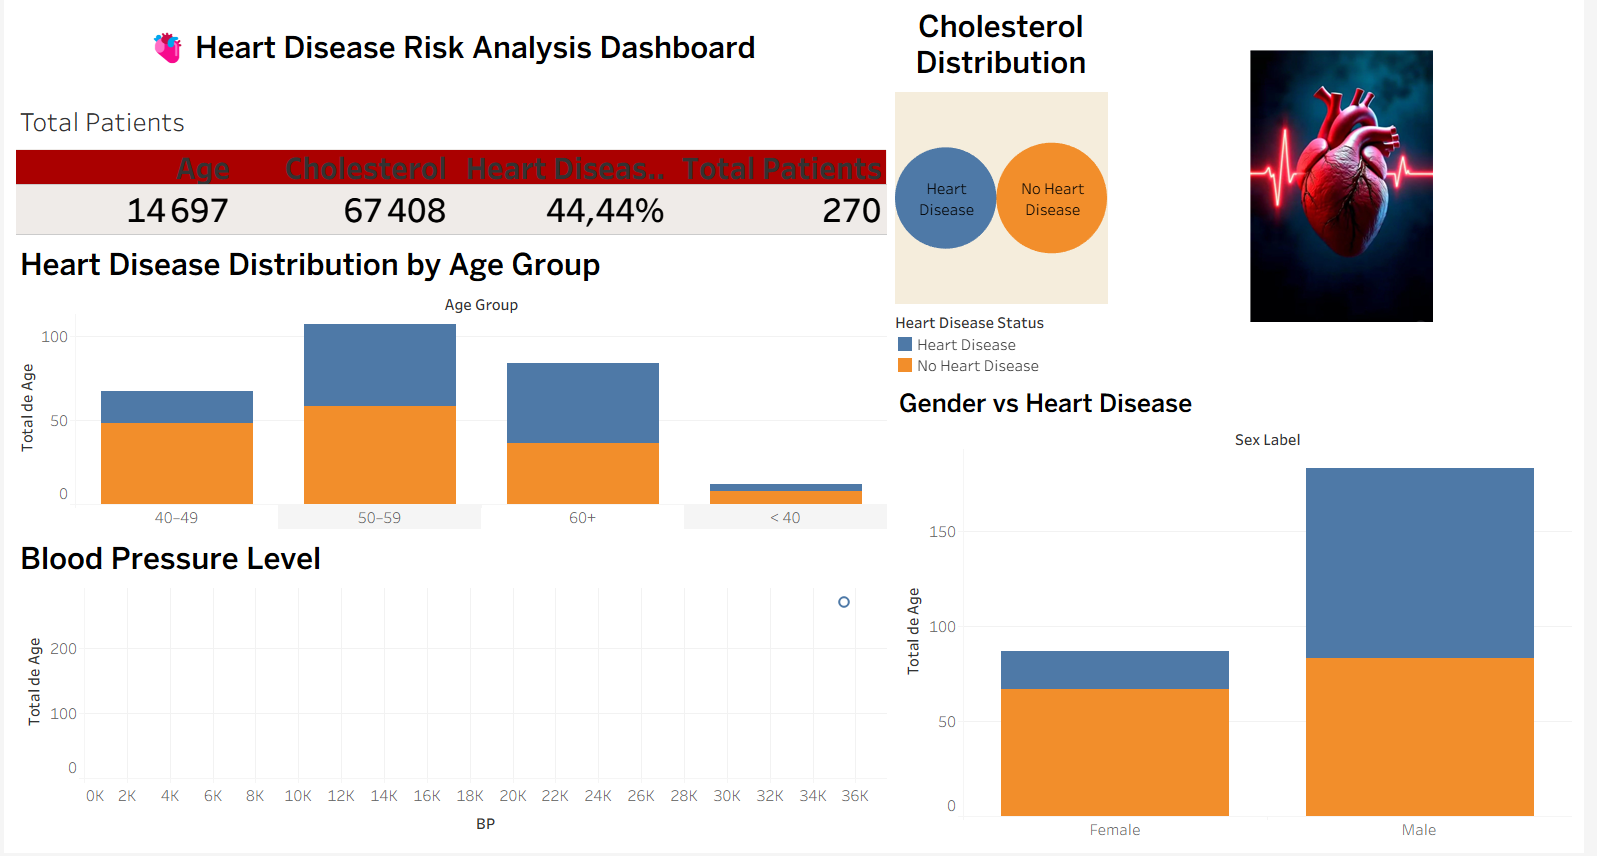

The page's visual inventory and layout, read from the dashboard file:
{"tool":"tableau","page":{"name":"Dashboard 1","canvas":[1000,1000],"units":"permille","ordinal":0},"visuals":[{"type":"title","box":[5.1,9.3,556.3,110.5]},{"type":"worksheet","title":"Cholesterol Distribution","mark":"Circle","box":[561.4,9.3,433.5,357]},{"type":"image","param":"Image/heart disease.jpg","box":[750.6,61.6,192.4,325.6]},{"type":"worksheet","title":"Total Patients","mark":"Automatic","box":[5.1,119.8,556.3,166.3]},{"type":"worksheet","title":"Heart Disease Distribution by Age Group","mark":"Automatic","rows":["Age"],"cols":["Calculation_1322369475966447618"],"box":[5.1,286,556.3,341.9]},{"type":"legend","title":"Heart Disease Distribution by Age Group","param":"[federated.0cehit901ibnzn105rq011ksxaql].[none:Calculation_1322369475961253888:n","box":[561.4,366.3,433.5,83.7]},{"type":"worksheet","title":"Gender vs Heart Disease","mark":"Automatic","rows":["Age"],"cols":["Calculation_1322369475965997057"],"box":[561.4,450,433.5,540.7]},{"type":"worksheet","title":"Blood Pressure Level","mark":"Automatic","rows":["Age"],"cols":["BP"],"box":[5.1,627.9,556.3,362.8]}]}

Visuals, with their boxes on the dashboard's canvas, which has no fixed pixel size, in thousandths of its width and height (x1, y1, x2, y2). These are canvas units, not pixel positions in the 1597x856 screenshot, which may show the page scaled, cropped or inside an application window:
title: <box>5,9,561,120</box>
"Cholesterol Distribution" worksheet (Circle marks): <box>561,9,995,366</box>
image: <box>751,62,943,387</box>
"Total Patients" worksheet: <box>5,120,561,286</box>
"Heart Disease Distribution by Age Group" worksheet: <box>5,286,561,628</box>
"Heart Disease Distribution by Age Group" legend: <box>561,366,995,450</box>
"Gender vs Heart Disease" worksheet: <box>561,450,995,991</box>
"Blood Pressure Level" worksheet: <box>5,628,561,991</box>
